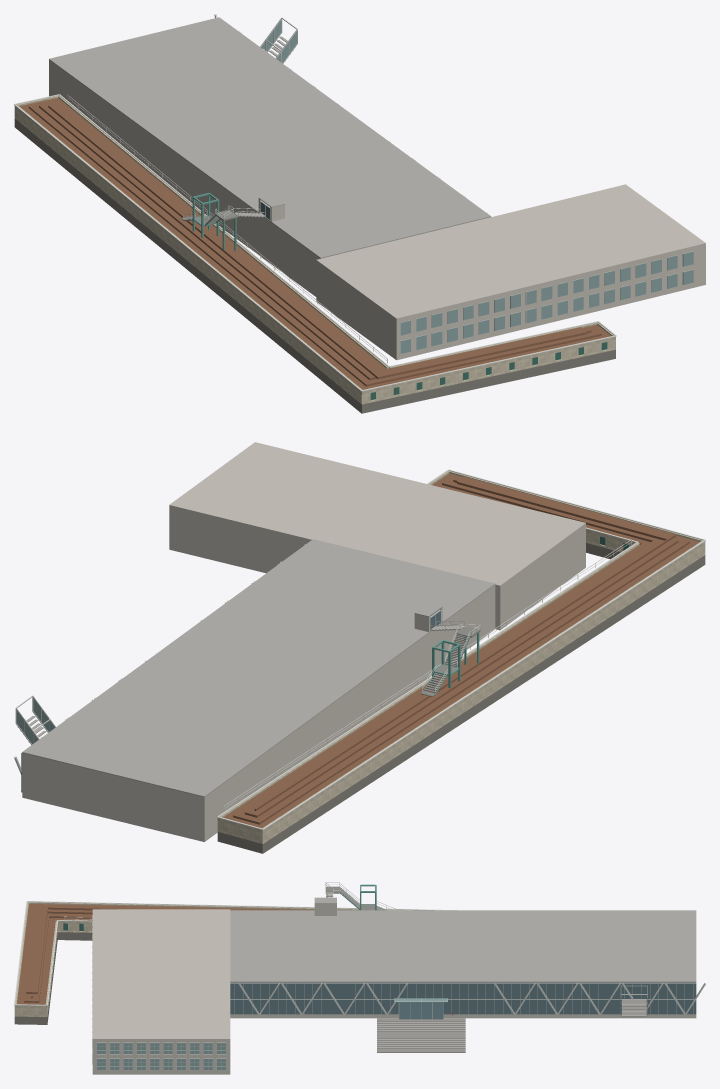
The picture shows the model from 3 angles, top to bottom: view 1: azimuth 30°, elevation 25°; view 2: azimuth 150°, elevation 25°; view 3: azimuth 270°, elevation 25°; orthographic projection. The views are drawn at different scales.
Parts seen in each view (by area): view 1: b04base__ground-stone, b04base__stone-wall, b04west__brown-roof, b04west__cream-panel-wall, b04base__glass-light, b04west__retaining-stone-wall, b04west__white-rail, b04base__frame, b04west__steel-teal; view 2: b04base__stone-wall, b04base__ground-stone, b04west__brown-roof, b04west__cream-panel-wall, b04west__retaining-stone-wall, b04west__white-rail, b04west__stair-tread, b04west__steel-teal, b04base__frame; view 3: b04base__ground-stone, b04base__stone-wall, b04base__glass-dark, b04base__frame, b04west__brown-roof, b04base__steps, b04base__glass-light, b04west__cream-panel-wall, b04west__white-rail, b04base__glass, b04west__retaining-stone-wall, b04west__stair-tread.
Part boxes in pixels (x1,y1,x2,y2): b04base__ground-stone: (49,17,491,258); b04base__stone-wall: (49,60,705,360); b04west__brown-roof: (19,98,610,389); b04west__cream-panel-wall: (14,95,615,404); b04base__glass-light: (261,20,693,353); b04west__retaining-stone-wall: (14,118,615,413); b04west__white-rail: (14,94,616,391); b04base__frame: (214,14,693,353); b04west__steel-teal: (184,193,236,250); b04base__stone-wall: (22,442,585,841); b04base__ground-stone: (18,539,495,797); b04west__brown-roof: (223,473,699,828); b04west__cream-panel-wall: (217,471,705,843); b04west__retaining-stone-wall: (217,543,705,853); b04west__white-rail: (217,469,705,829); b04west__stair-tread: (420,626,480,696); b04west__steel-teal: (423,632,479,695); b04base__frame: (14,544,464,791); b04base__ground-stone: (230,892,696,1016); b04base__stone-wall: (92,904,696,1074); b04base__glass-dark: (230,983,696,1014); b04base__frame: (92,889,705,1070); b04west__brown-roof: (17,904,314,1004); b04base__steps: (377,1018,465,1052); b04base__glass-light: (97,998,447,1069); b04west__cream-panel-wall: (14,902,411,1016); b04west__white-rail: (14,882,457,1005); b04base__glass: (399,1002,443,1019); b04west__retaining-stone-wall: (14,932,92,1024); b04west__stair-tread: (325,886,387,910).
Bounding box in the file's own units: 85.58 × 15.4 × 156.
Materials: 16 (1 with a texture image).
